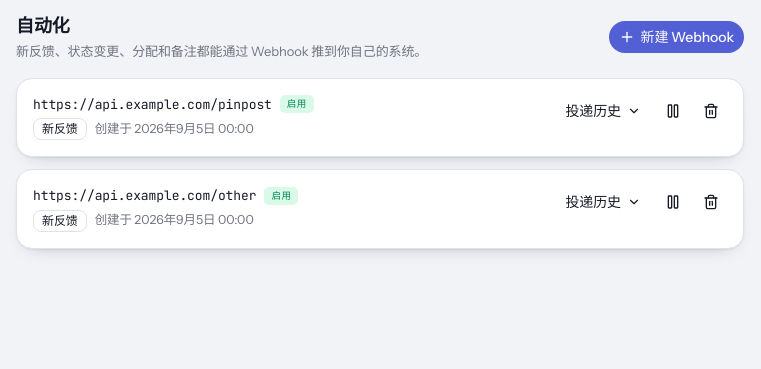
Test: WebhookManager › ignores a stale delivery response from a previously expanded endpoint
Check: the text "https://api.example.com/other" is shown, box [33,186,256,206]
Click the button "投递历史" in the row of "https://api.example.com/pinpost".
click(603, 110)  # box [555,94,651,126]
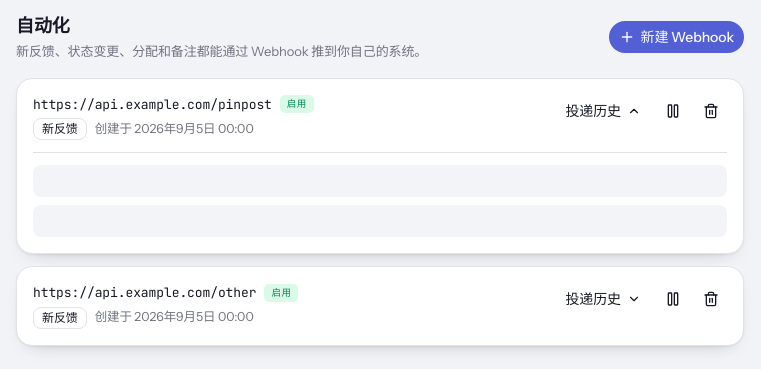
Click the button "投递历史" in the row of "https://api.example.com/other".
click(603, 299)  # box [555,283,651,315]
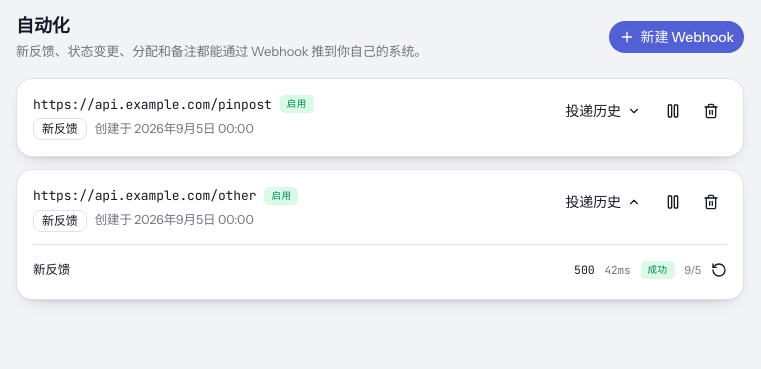
Check: the text "500" is shown, box [574,261,594,279]
